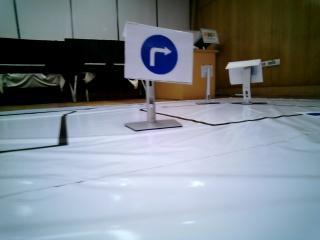right: (133, 26, 183, 79)
